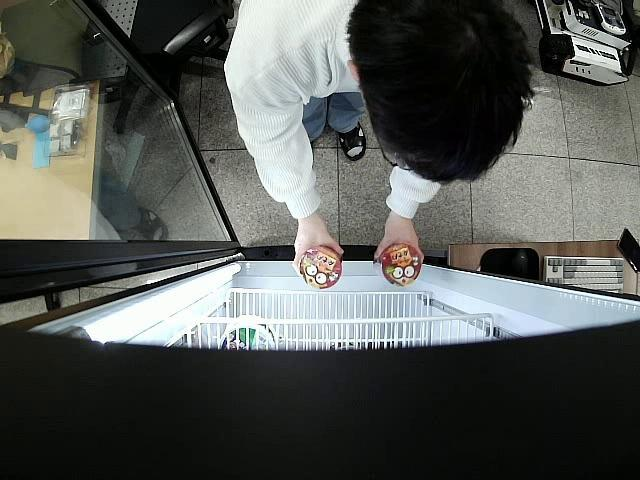06_nuguri_S: (300, 245, 341, 290), (380, 244, 422, 287)
